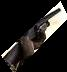gun: (1, 1, 67, 72)
